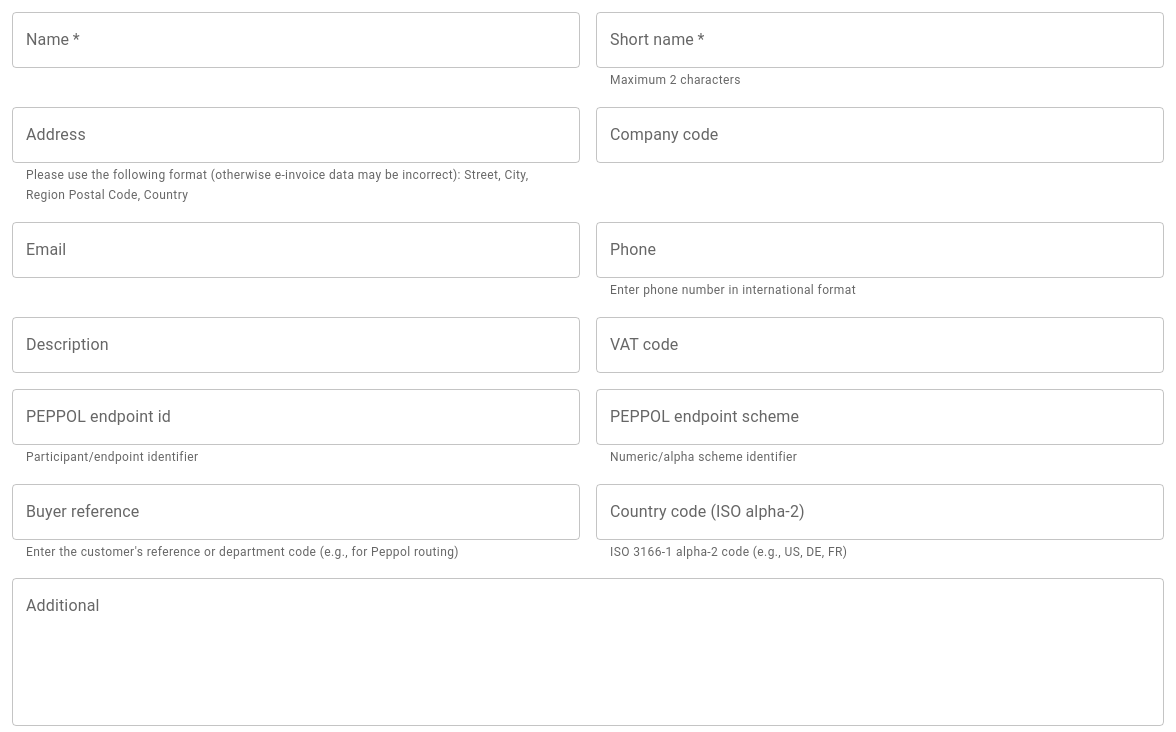
Test: clients Form › shows validation errors for invalid phone, countryCode and PEPPOL fields
Step 1. Type "John Doe" into the field labelled "Name" → (296, 40), box [12,12,580,68]
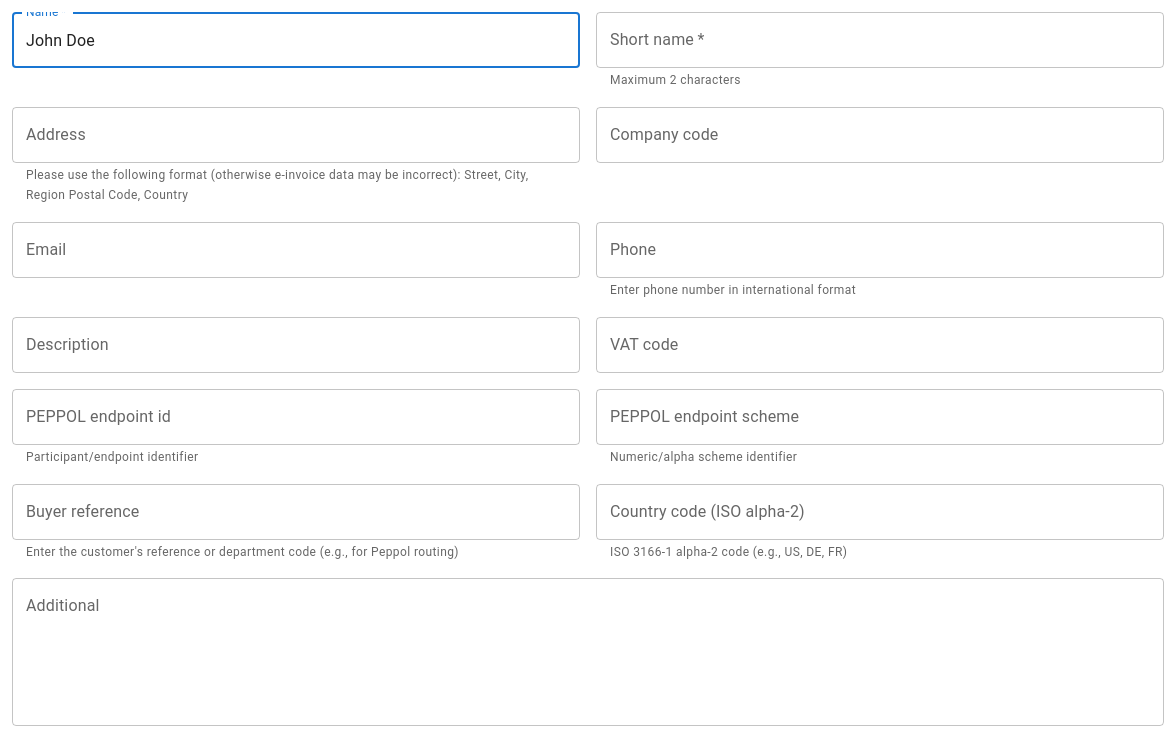
Step 2. Type "JD" into the field labelled "Short name" → (880, 40), box [596,12,1164,68]
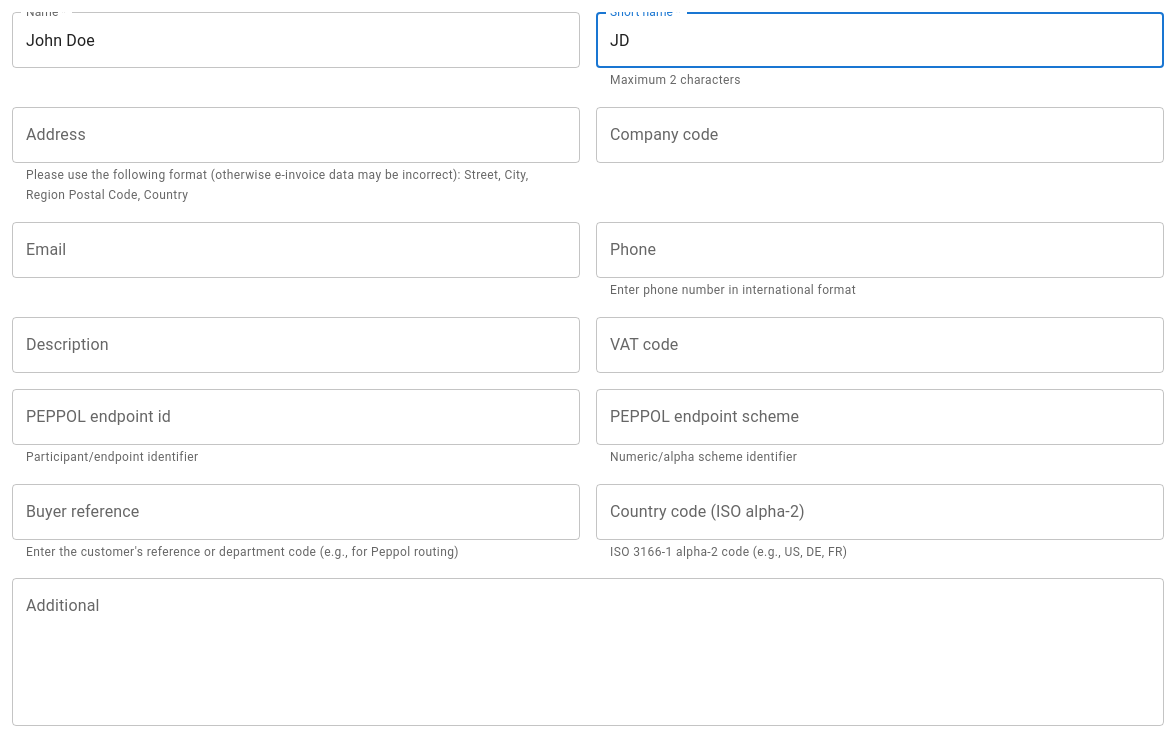
Step 3. Type "not-a-phone" into the field labelled "Phone" → (880, 250), box [596,222,1164,278]
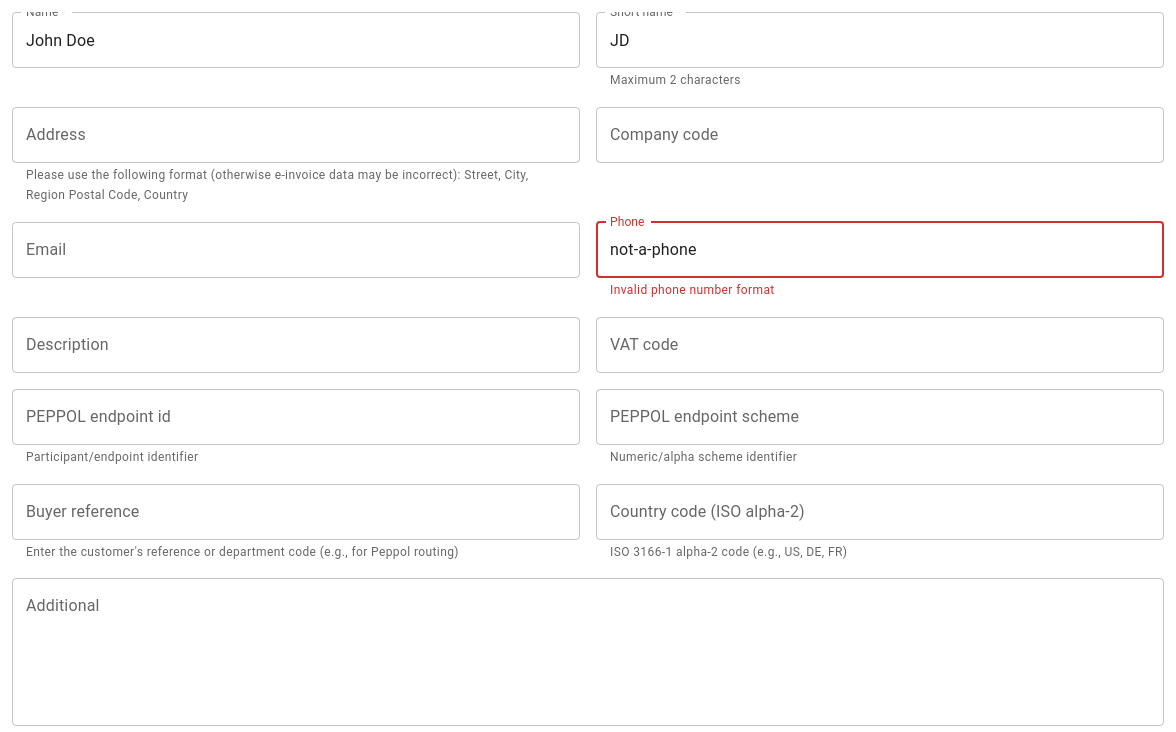
Now the text "Invalid phone number format" is shown, box [610,283,775,297]
Step 4. Type "123" into the field labelled "Country code (ISO alpha-2)" → (880, 512), box [596,484,1164,540]
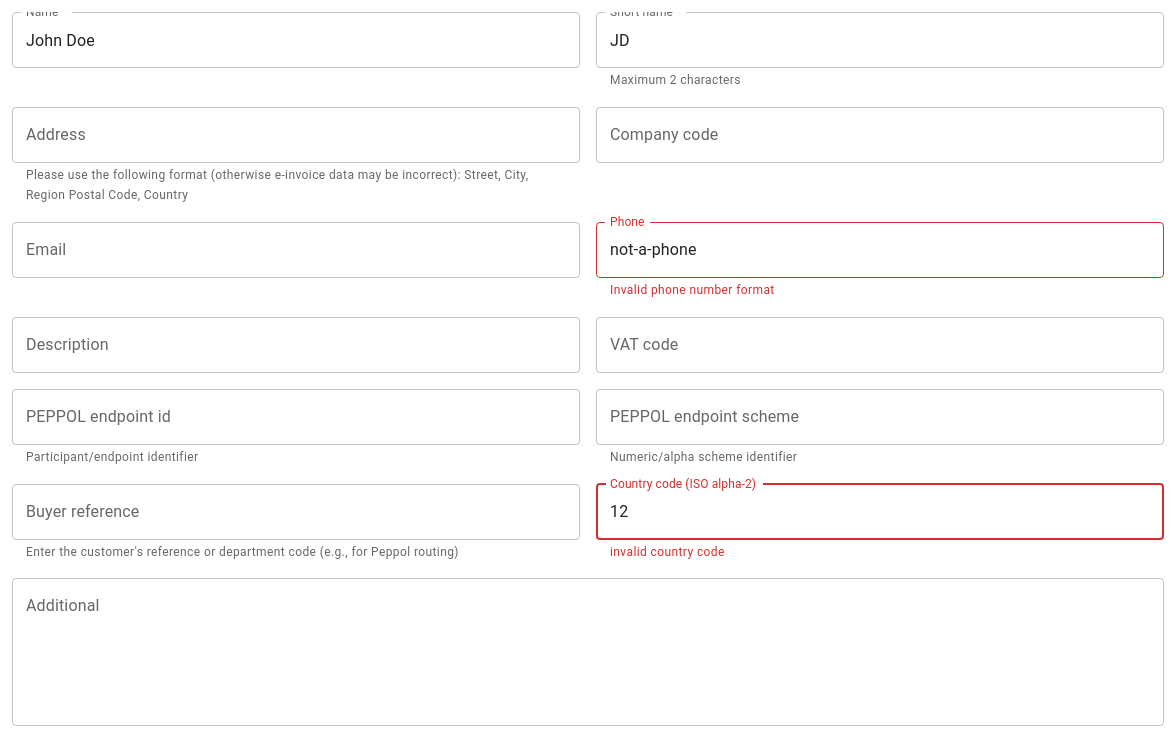
Now the text "invalid country code" is shown, box [610,544,725,558]
Step 5. Type "!!" into the field labelled "PEPPOL endpoint id" → (296, 417), box [12,389,580,445]
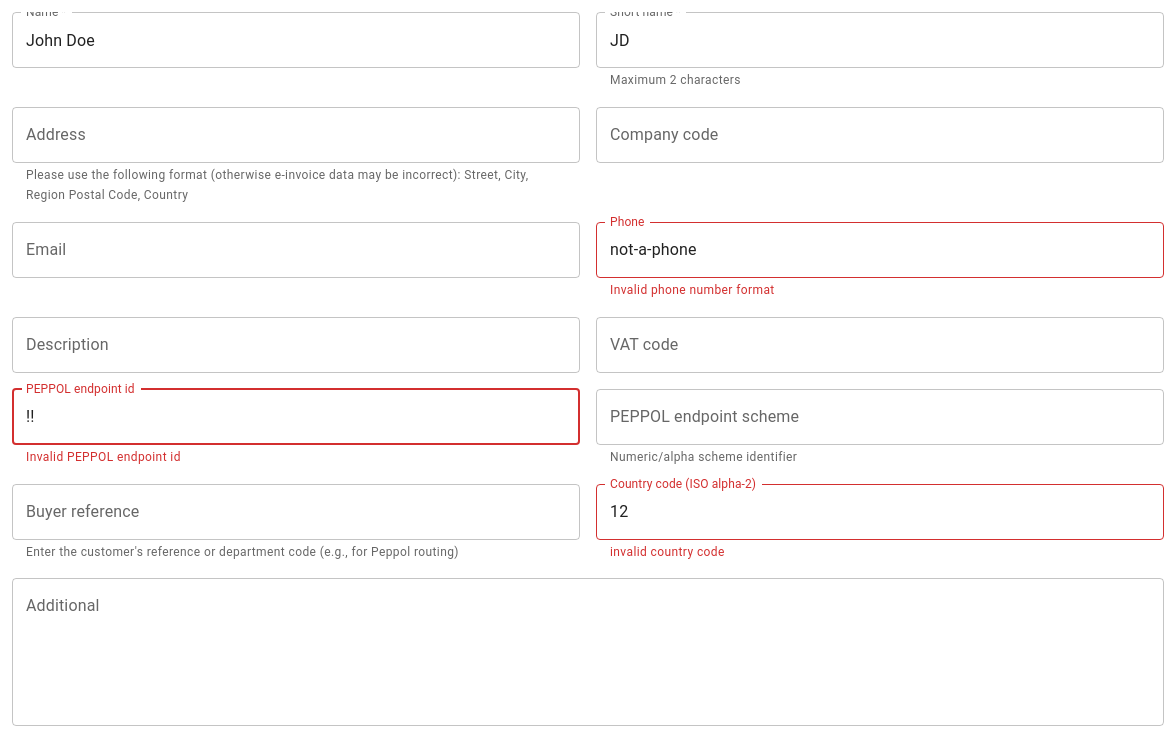
Now the text "Invalid PEPPOL endpoint id" is shown, box [26,450,181,464]
Step 6. Type "!!" into the field labelled "PEPPOL endpoint scheme" → (880, 417), box [596,389,1164,445]
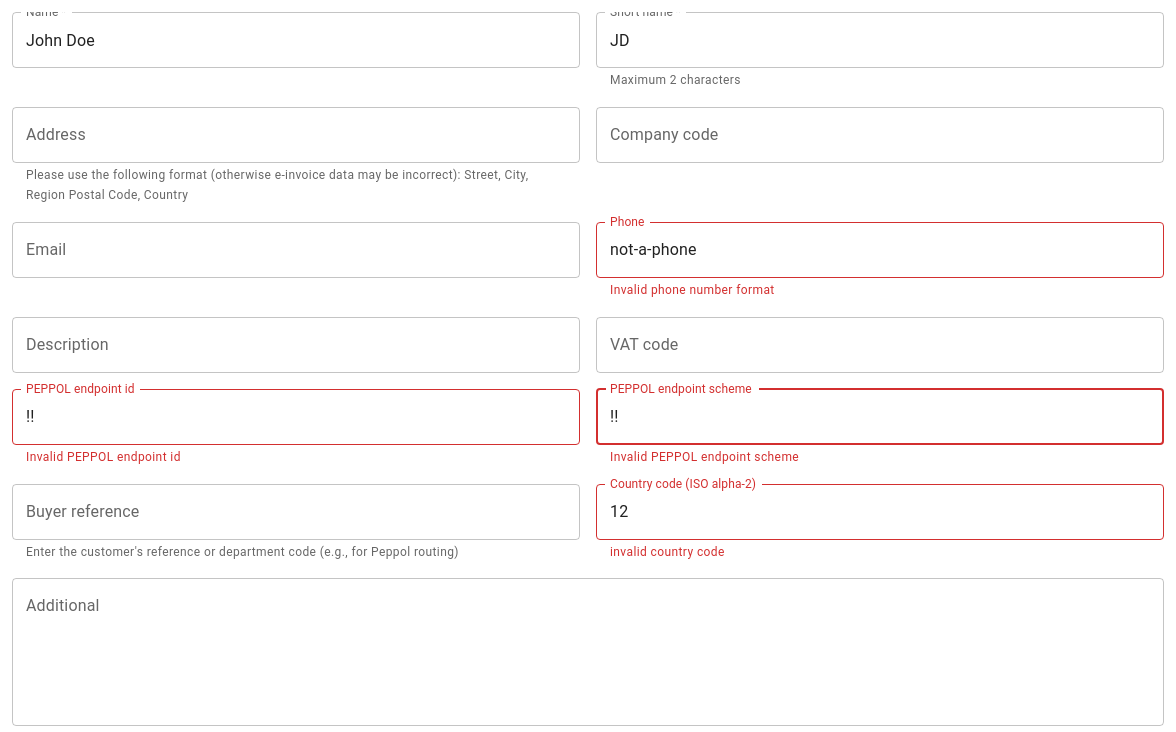
Now the text "Invalid PEPPOL endpoint scheme" is shown, box [610,450,799,464]
